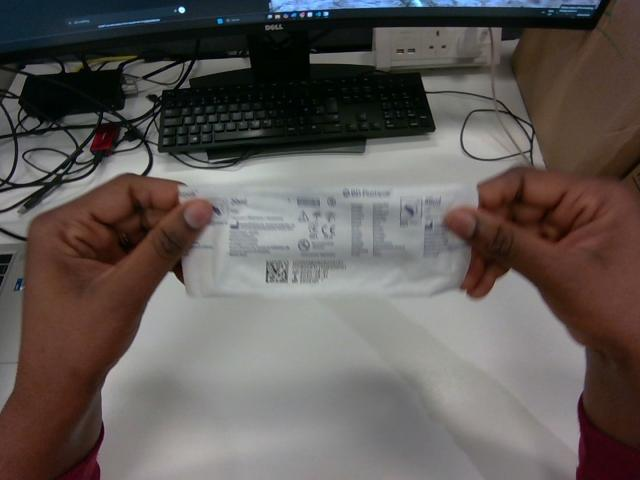syringe: (180, 184, 477, 296)
